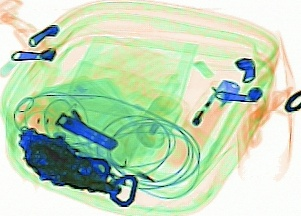lighter: (163, 78, 240, 168)
